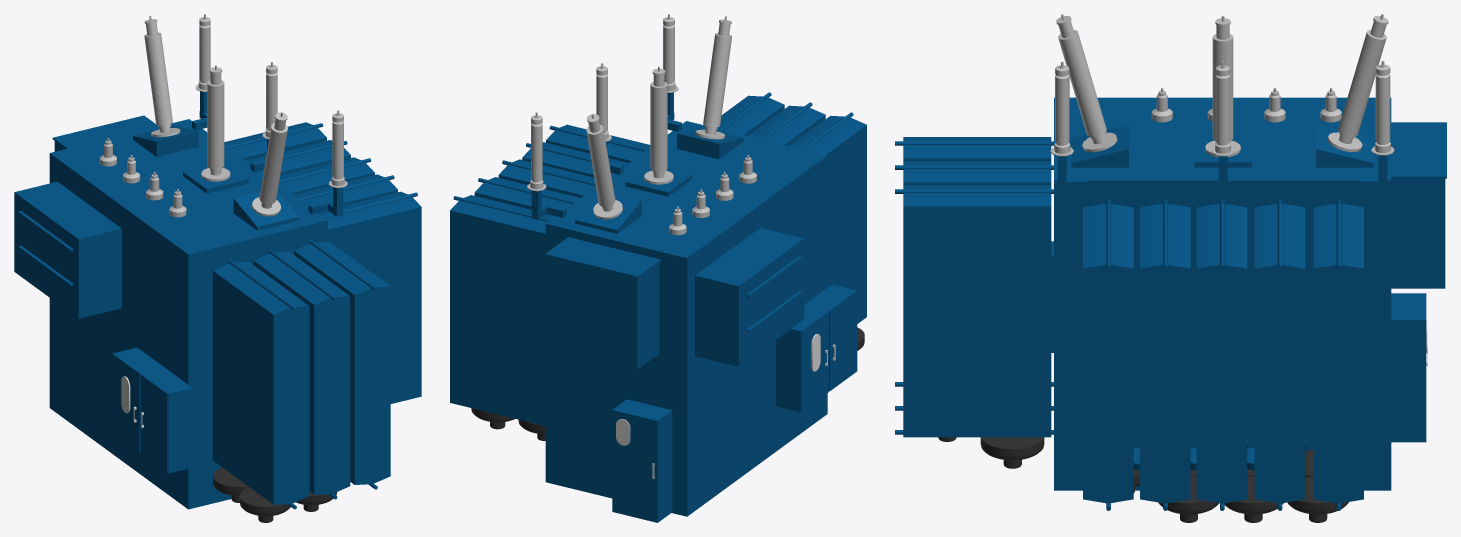
The model's file is Transformer.FBX.
3 views of the same model, side by side, from view 1: azimuth 30°, elevation 25°; view 2: azimuth 150°, elevation 25°; view 3: azimuth 270°, elevation 25° (orthographic). The views are drawn at different scales.
Parts seen in each view (by area): view 1: Transformer Rio Oso, Radiators, Radiators001, Box030, Transformer 01, Box022, Box027, Bushing, Bushing013, Box026, Bushing012, Box018 (+6 smaller); view 2: Transformer Rio Oso, Radiators001, Radiators, Box030, Box017, Box019, Box022, Box027, Box018, Transformer 01, Bushing012, Bushing (+8 smaller); view 3: Radiators001, Transformer Rio Oso, Radiators, Transformer 01, Box017, Box019, Box018, Bushing013, Bushing012, Bushing, Box003, Box005 (+4 smaller).
Part boxes in pixels (<box>): Transformer Rio Oso: <box>49,119,327,509</box>; Radiators: <box>212,240,390,509</box>; Radiators001: <box>224,122,421,403</box>; Box030: <box>14,181,121,318</box>; Transformer 01: <box>99,138,337,522</box>; Box022: <box>113,347,192,473</box>; Box027: <box>140,374,168,473</box>; Bushing: <box>201,65,230,181</box>; Bushing013: <box>144,16,180,137</box>; Box026: <box>112,353,140,452</box>; Bushing012: <box>252,112,287,216</box>; Box018: <box>52,115,158,148</box>; Transformer Rio Oso: <box>545,121,827,516</box>; Radiators001: <box>450,124,650,425</box>; Radiators: <box>717,92,866,323</box>; Box030: <box>695,228,804,366</box>; Box017: <box>547,256,659,369</box>; Box019: <box>612,399,672,522</box>; Box022: <box>776,284,856,411</box>; Box027: <box>829,290,857,391</box>; Box018: <box>545,237,660,278</box>; Transformer 01: <box>471,155,864,440</box>; Bushing012: <box>695,16,731,139</box>; Bushing: <box>644,66,673,184</box>; Radiators001: <box>1083,200,1363,510</box>; Transformer Rio Oso: <box>1054,97,1391,490</box>; Radiators: <box>895,137,1053,437</box>; Transformer 01: <box>938,88,1348,522</box>; Box017: <box>1391,178,1445,288</box>; Box019: <box>1391,293,1426,442</box>; Box018: <box>1391,122,1446,178</box>; Bushing013: <box>1327,14,1388,152</box>; Bushing012: <box>1056,14,1117,152</box>; Bushing: <box>1205,15,1240,156</box>; Box003: <box>1316,124,1373,167</box>; Box005: <box>1071,124,1128,167</box>.
Bounding box in the file's own units: 472 × 562 × 623.
